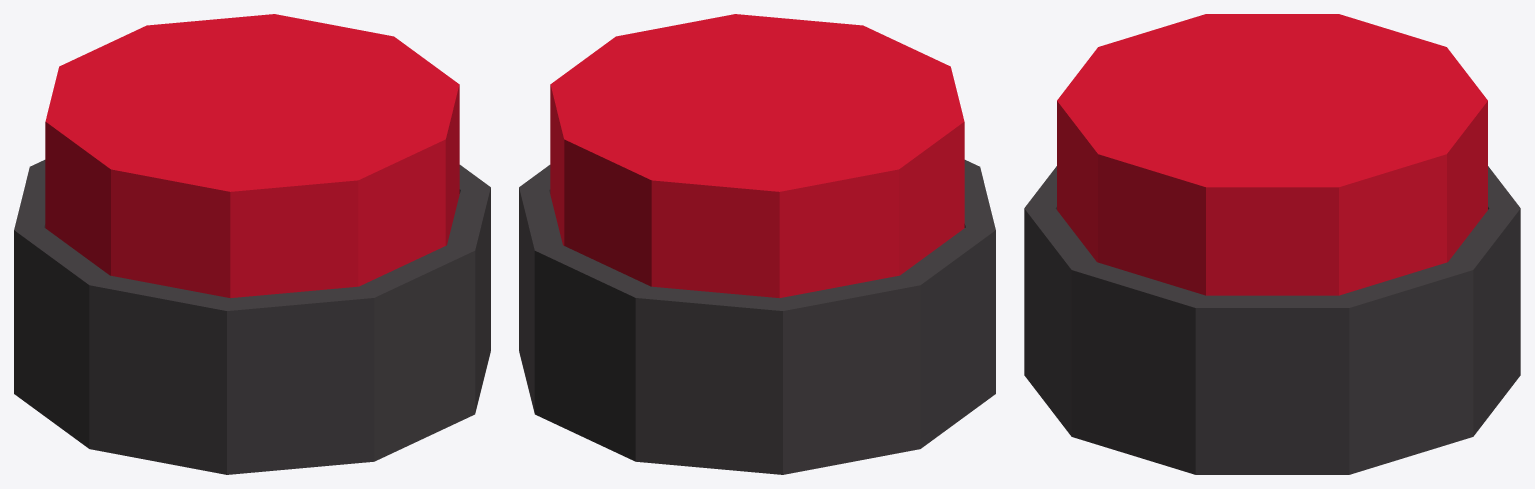
The model's file is Button.fbx.
The picture shows the model from 3 angles, left to right: view 1: azimuth 30°, elevation 25°; view 2: azimuth 150°, elevation 25°; view 3: azimuth 270°, elevation 25°; orthographic projection.
Visible parts, largest first — view 1: Cylinder.001, Cylinder; view 2: Cylinder.001, Cylinder; view 3: Cylinder.001, Cylinder.
Boxes of the visible parts, <box> form: Cylinder.001: <box>45,14,459,298</box>; Cylinder: <box>14,160,490,474</box>; Cylinder.001: <box>550,14,964,298</box>; Cylinder: <box>519,160,995,474</box>; Cylinder.001: <box>1057,14,1487,295</box>; Cylinder: <box>1024,166,1520,474</box>.
Bounding box in the file's own units: 190 × 122 × 200.
